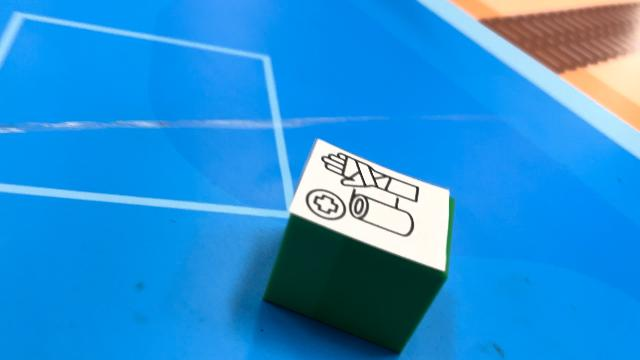bandage: (262, 138, 454, 354)
